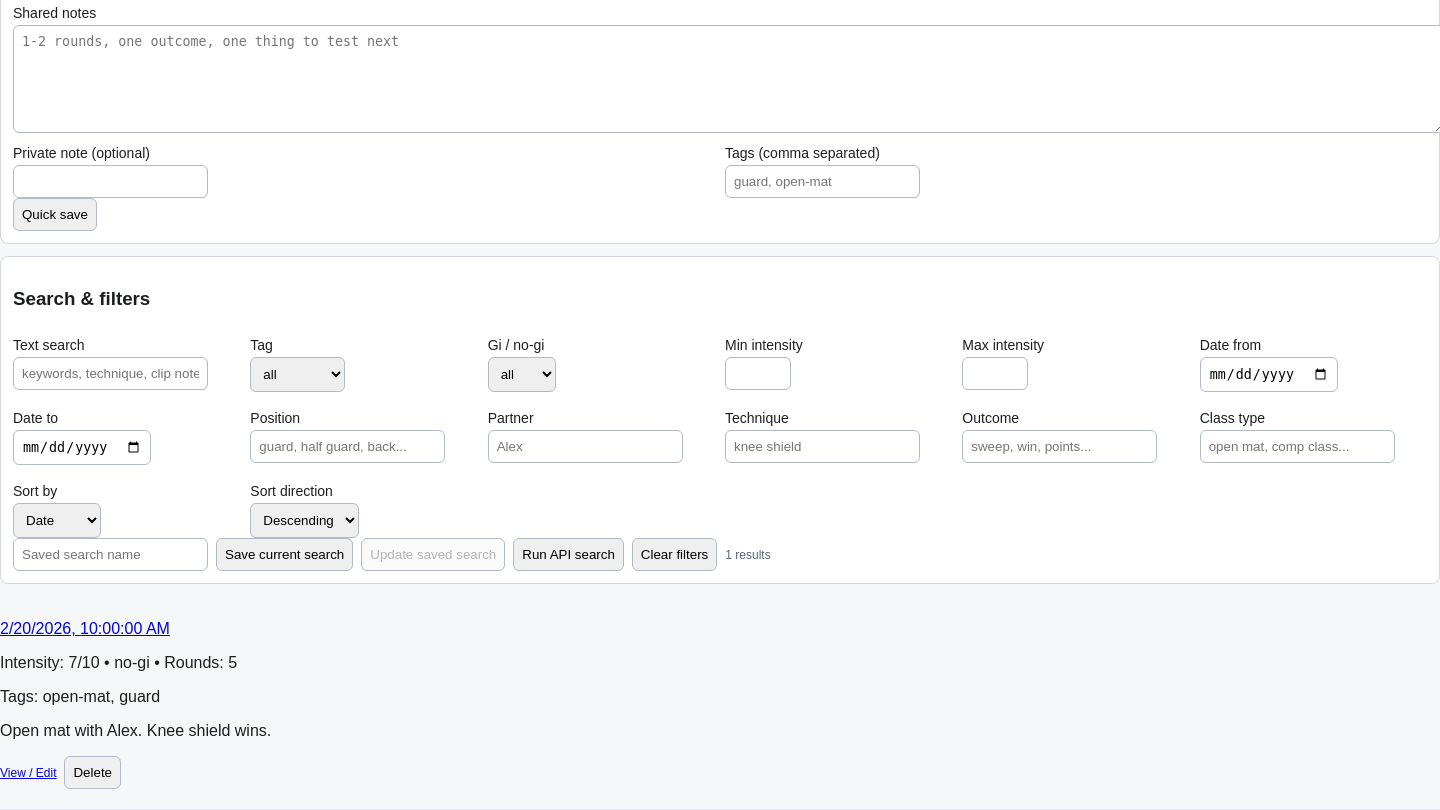
Test: EntriesPage search UI › deletes an overview entry after confirmation
The width and height of the screenshot is (1440, 810).
(page scrolled)
Click the button with aria-label "Delete entry entry-1": (93, 773) [64, 756, 121, 789]
(page scrolled)
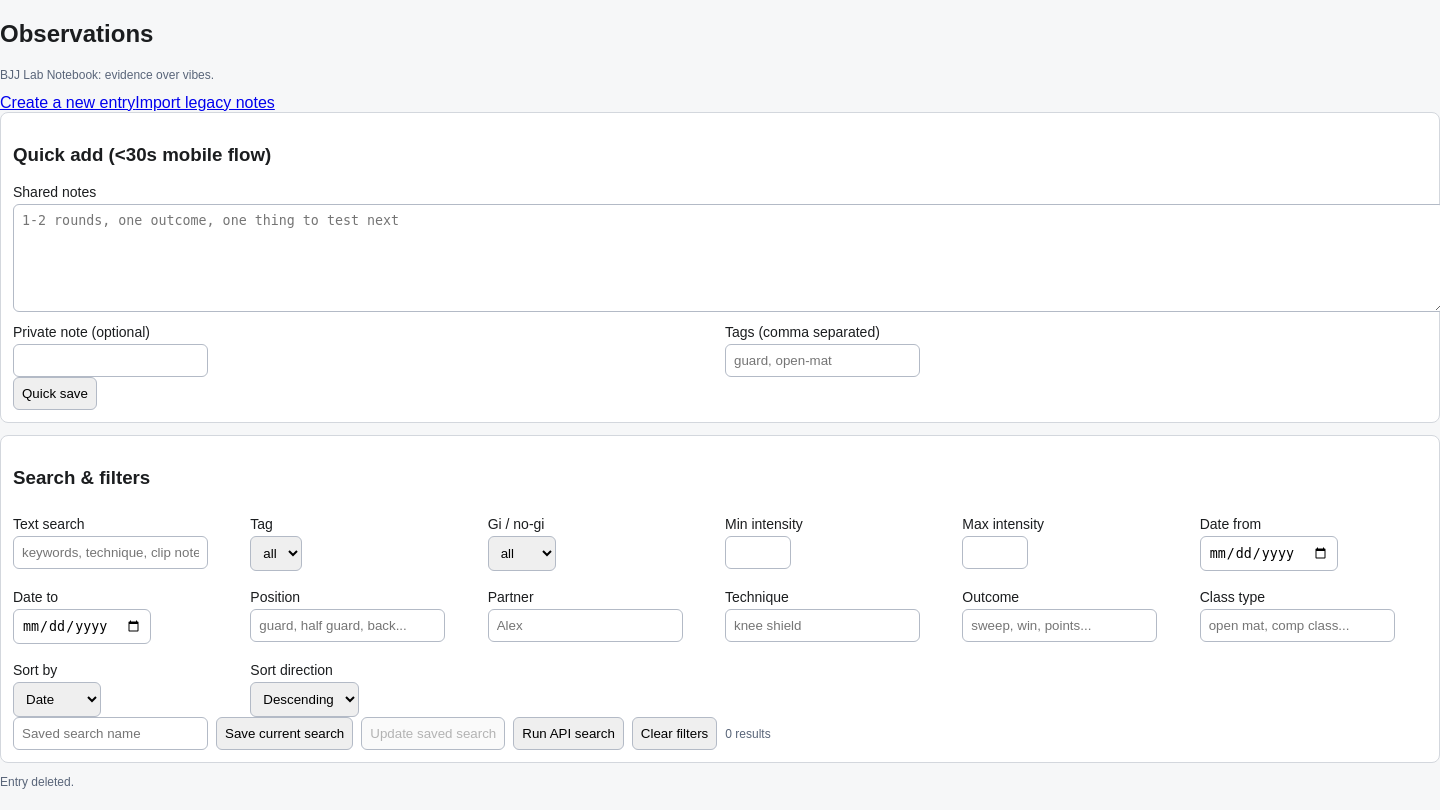
Expected: the text "Open mat with Alex. Knee shield wins." is gone
Expected: the text "Entry deleted." is shown, [0, 775, 74, 789]
